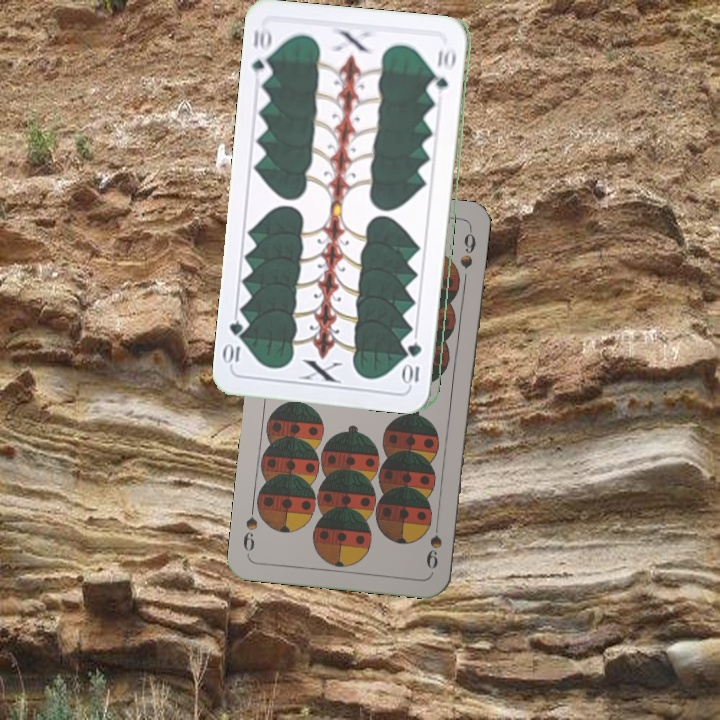G10: (248, 26, 276, 83), (404, 338, 424, 388)
S9: (422, 514, 445, 571)
